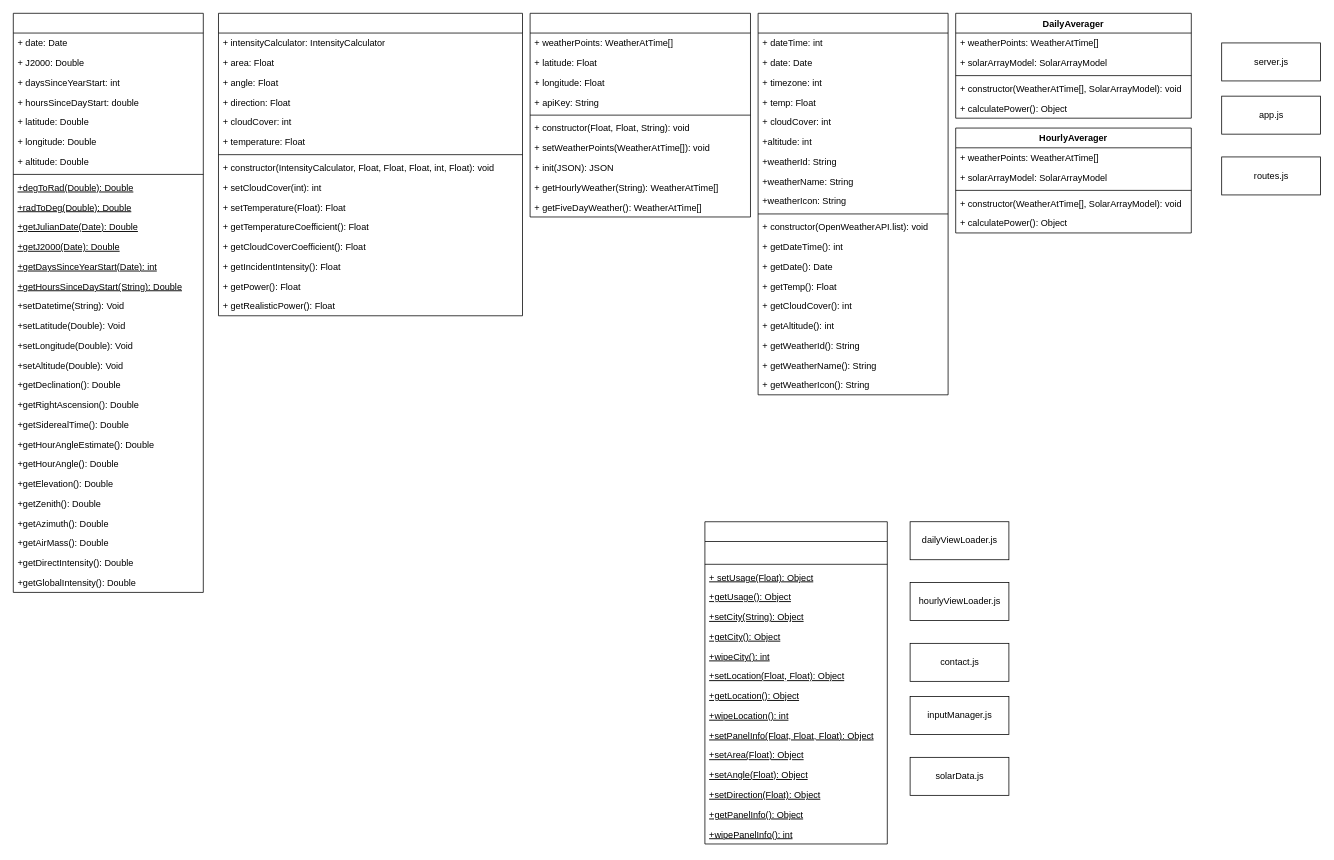
The diagram is 1334 pixels wide and 860 high, and some of its shapes have lost their labels. Here are the shapes that lost their labels. From the top down, the box of each, then its label:
(529, 13, 750, 217): OpenWeather
(218, 13, 522, 316): SolarArrayModel
(757, 13, 948, 395): WeatherAtTime
(13, 13, 203, 592): IntensityCalculator
(704, 521, 887, 844): LocalDataManager
